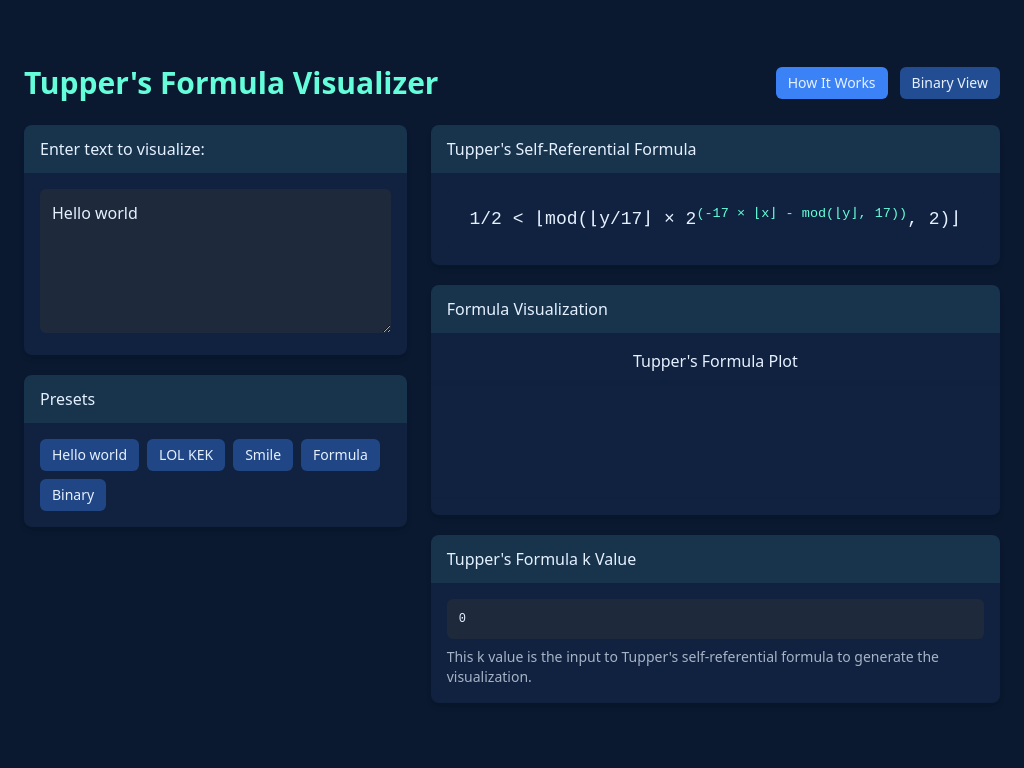
Test case: App component › opens wizard modal when "How It Works" button is clicked
Step 1. Click the button "How It Works" → x=832, y=83, box x1=776 y1=67 x2=888 y2=99
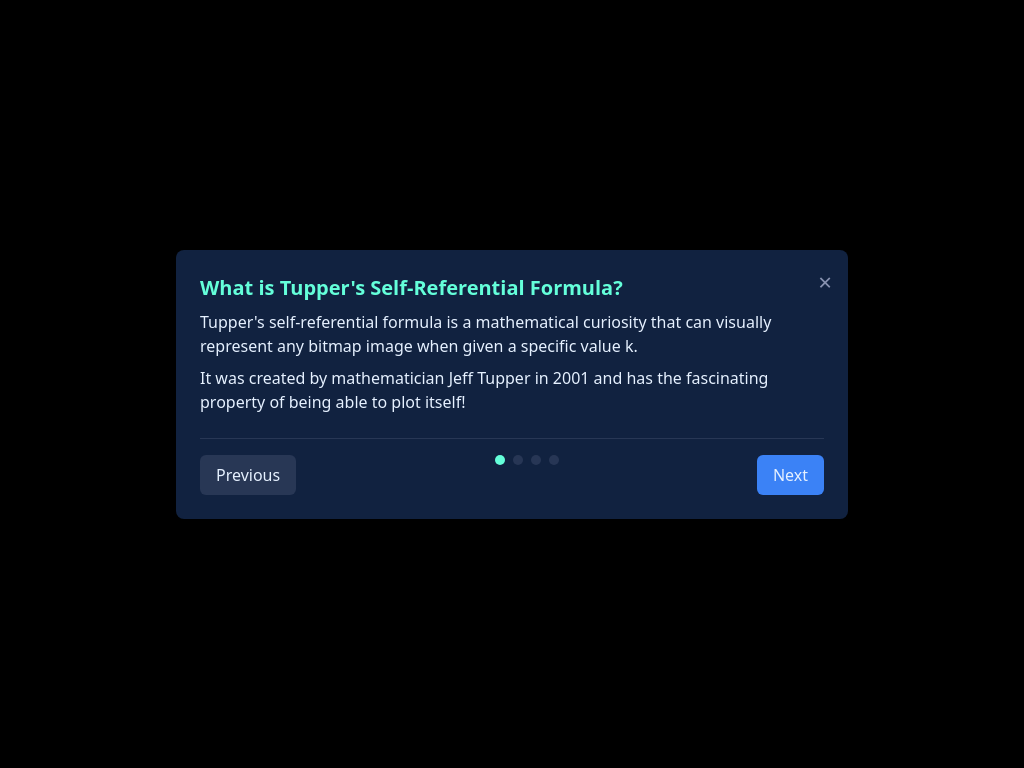
Expected: the heading "What is Tupper's Self-Referential Formula?" is shown, x1=200 y1=274 x2=623 y2=300
